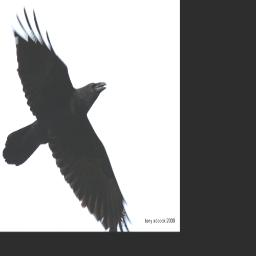Crow: (1, 2, 134, 232)
